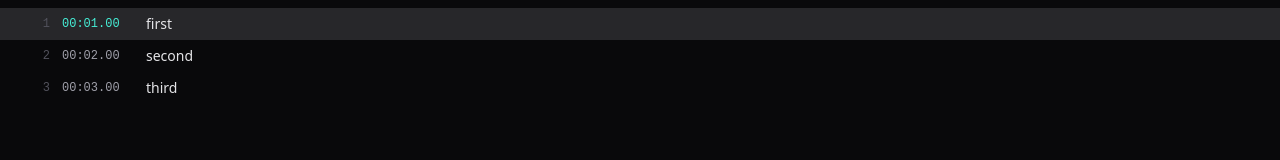
a lyric row › escape leaves the words alone
Double-click the option "2 00:02.00 second" at (118, 56), box [43,46,193,65]
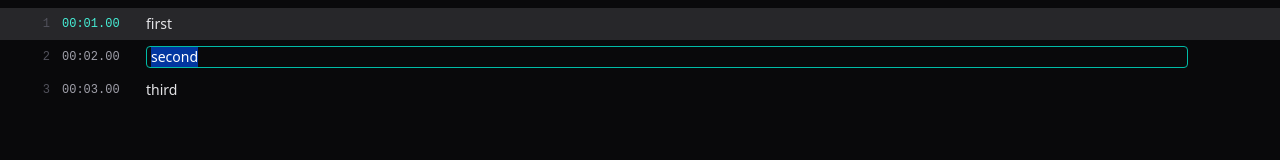
Press Escape in the field, box [146,46,1188,68]
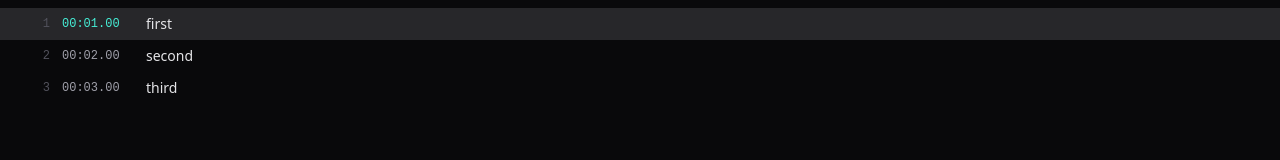
Expected: the text "second" is shown, [146,46,193,65]
Expected: the field is gone
